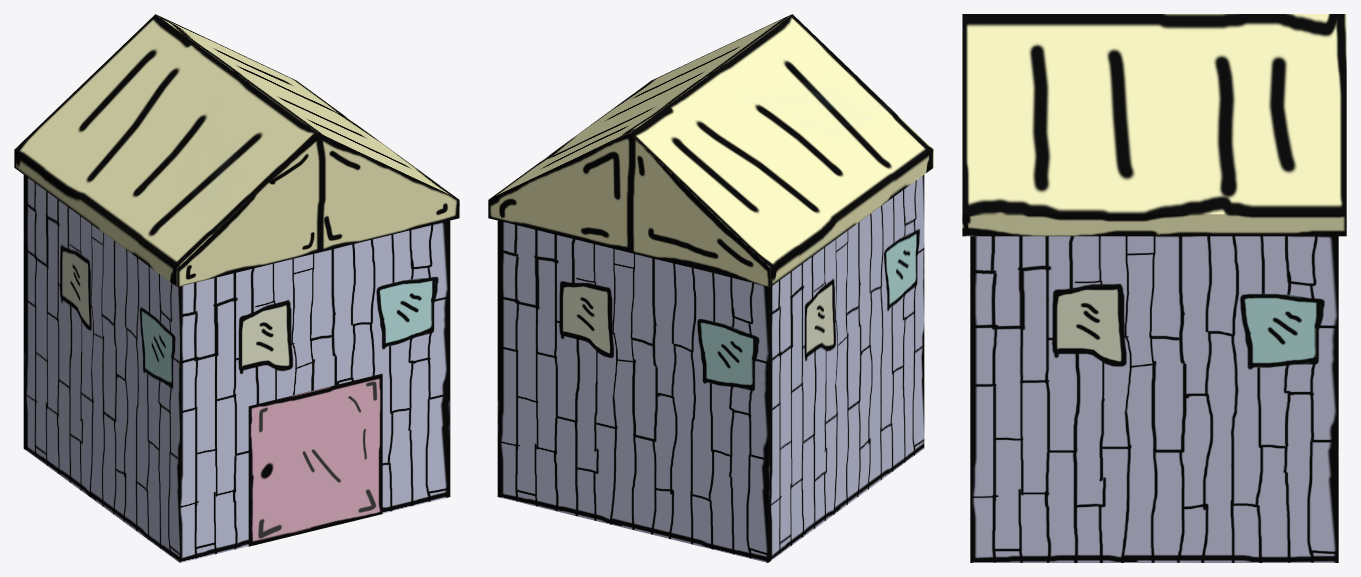
File: House.glb
3 views of the same model, side by side, from view 1: azimuth 30°, elevation 25°; view 2: azimuth 150°, elevation 25°; view 3: azimuth 270°, elevation 25° (orthographic). The views are drawn at different scales.
Visible parts, largest first — view 1: Cube; view 2: Cube; view 3: Cube.
Part boxes in pixels (<box>): Cube: <box>14,14,459,562</box>; Cube: <box>488,14,933,562</box>; Cube: <box>962,14,1346,562</box>.
Size of the model in its own units: 4.21 by 5.69 by 4.21.
3 materials, 3 textured.
